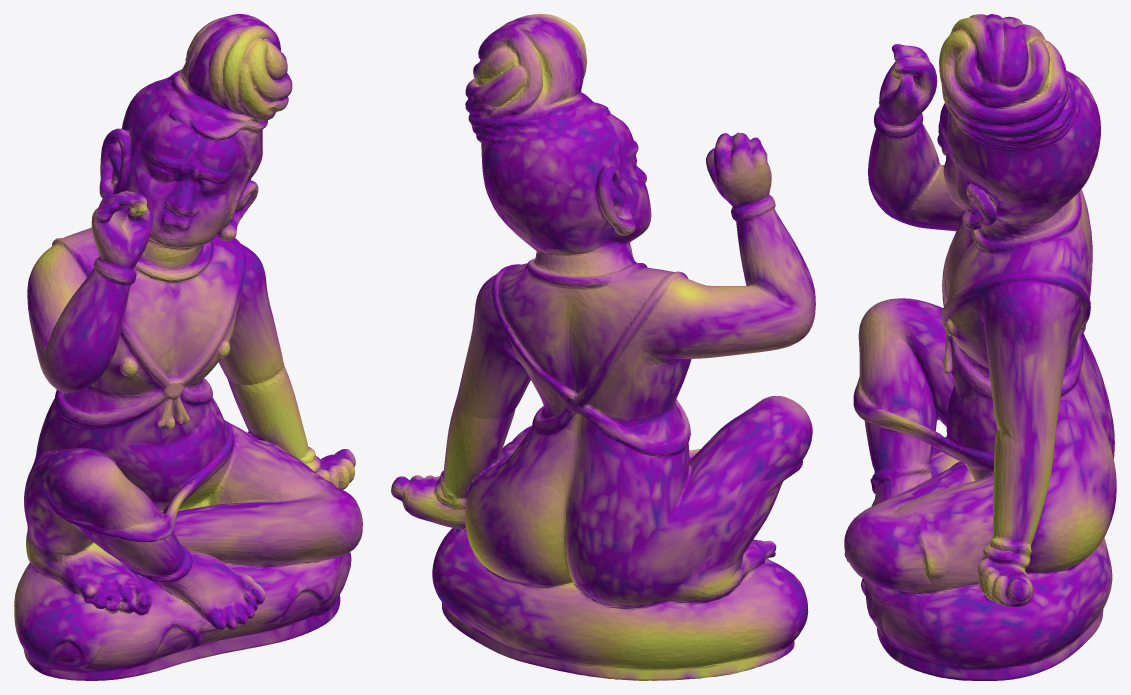
The model's file is iter_17.glb.
3 renders of one model, left to right at view 1: azimuth 30°, elevation 25°; view 2: azimuth 150°, elevation 25°; view 3: azimuth 270°, elevation 25°, orthographic. The views are drawn at different scales.
Parts seen in each view (by area): view 1: textured_mesh; view 2: textured_mesh; view 3: textured_mesh.
Part boxes in pixels (<box>): textured_mesh: <box>14,14,362,680</box>; textured_mesh: <box>391,14,815,680</box>; textured_mesh: <box>844,14,1116,680</box>.
Size of the model in its own units: 1.31 by 1.99 by 0.794.
